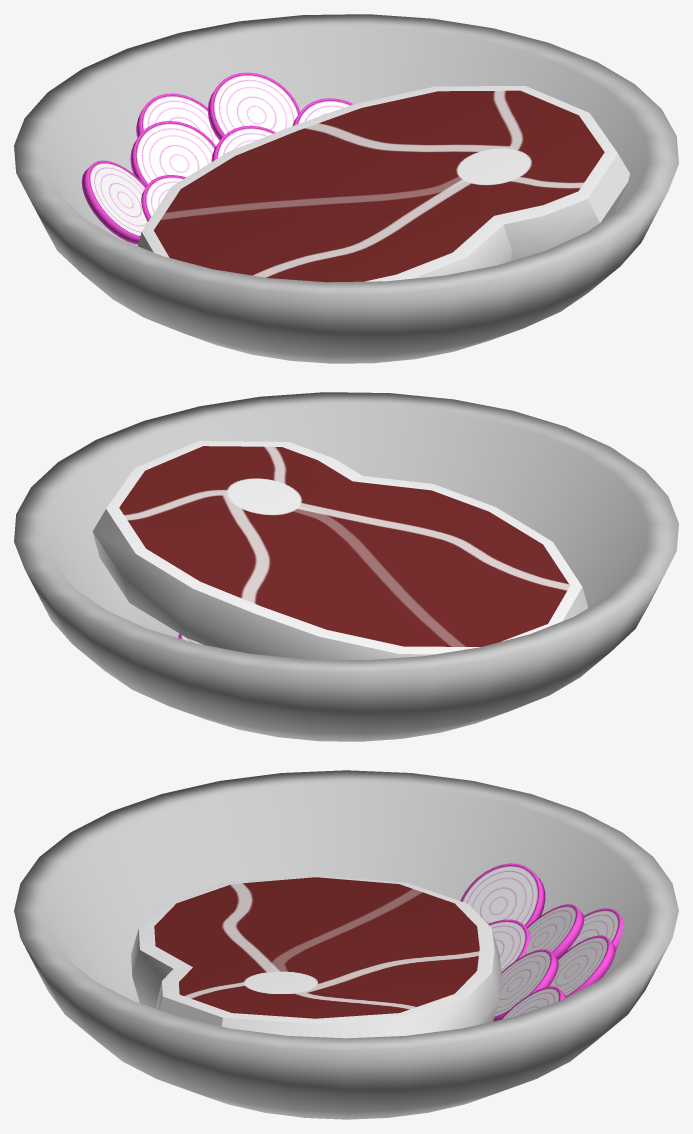
The model's file is BeefPlate.fbx.
3 views of the same model, one above another, from view 1: azimuth 30°, elevation 25°; view 2: azimuth 150°, elevation 25°; view 3: azimuth 270°, elevation 25° (orthographic).
Visible parts, largest first — view 1: BeefPlate, Beef, Onions; view 2: BeefPlate, Beef; view 3: BeefPlate, Beef, Onions.
Part boxes in pixels (box(x1,y1,x2,y2)): BeefPlate: box(14, 14, 678, 363); Beef: box(138, 86, 629, 282); Onions: box(81, 72, 353, 244); BeefPlate: box(14, 392, 678, 741); Beef: box(92, 441, 588, 660); BeefPlate: box(14, 770, 678, 1119); Beef: box(131, 875, 502, 1038); Onions: box(460, 863, 622, 1021).
Bounding box in the file's own units: 31.83 × 6.28 × 31.83.
